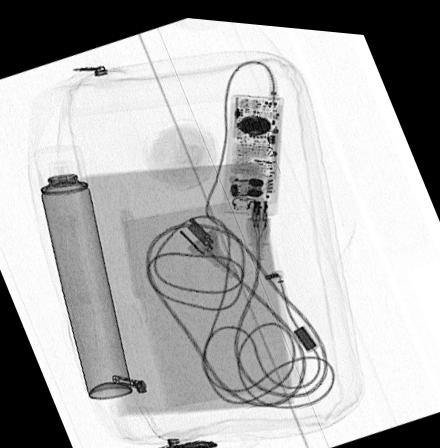Sprayer: (36, 140, 134, 398)
